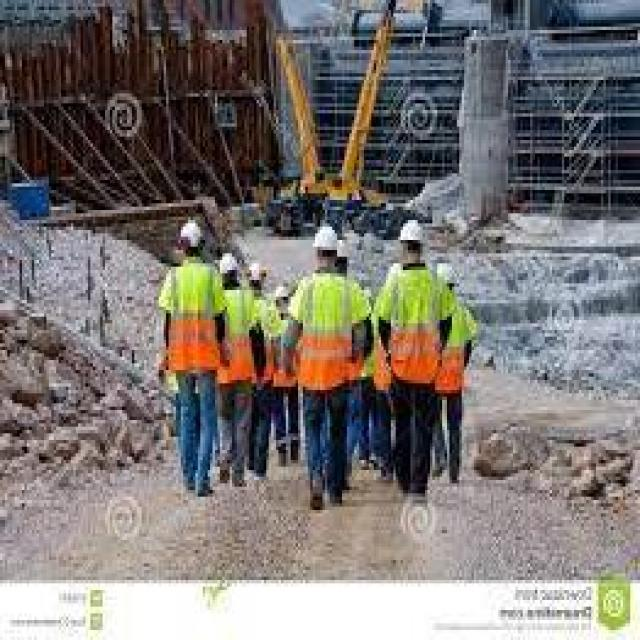Reflective-Jacket: (280, 273, 374, 400), (164, 260, 222, 387), (389, 266, 442, 386), (432, 287, 477, 403), (216, 286, 251, 396), (246, 294, 280, 399)
Safety-Helmet: (313, 220, 342, 250), (178, 220, 203, 250), (398, 217, 425, 243), (218, 250, 240, 277)
